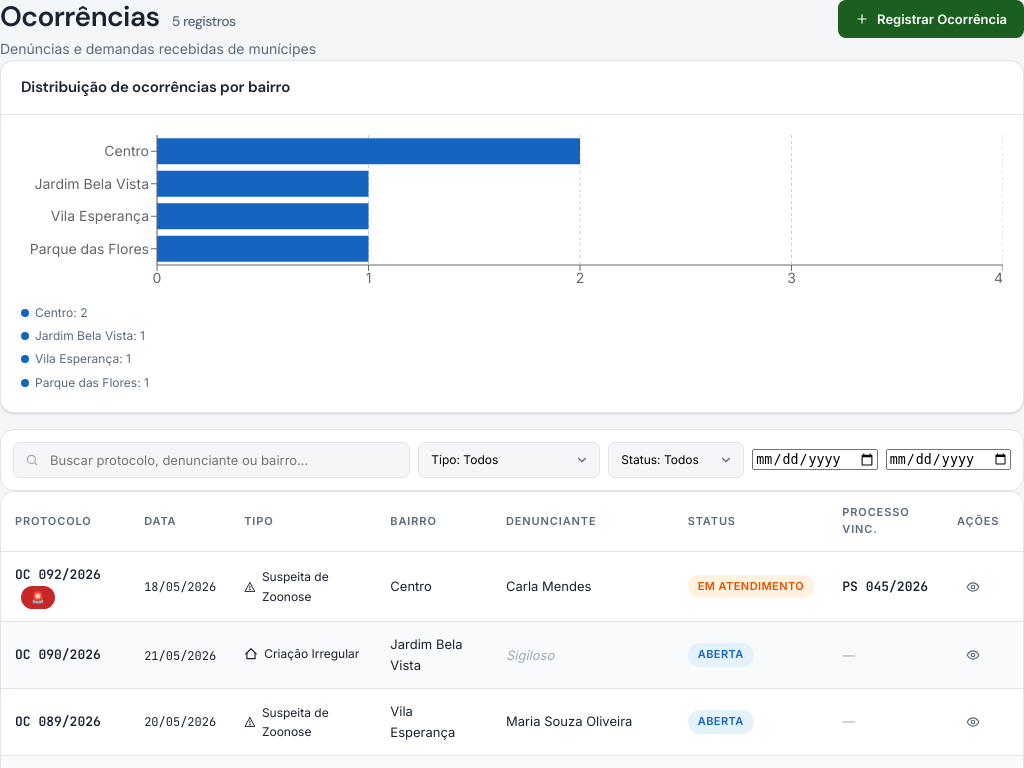
Test: Ocorrencias › filtra por tipo enviando o parâmetro `tipo`
This screenshot has width=1024, height=768.
Expected: the text "OC 089/2026" is shown, [15,713,101,730]
Step 1. Select "Animal Agressivo" in the dropdown named "Filtrar por tipo" → (509, 460), box [418,442,600,478]
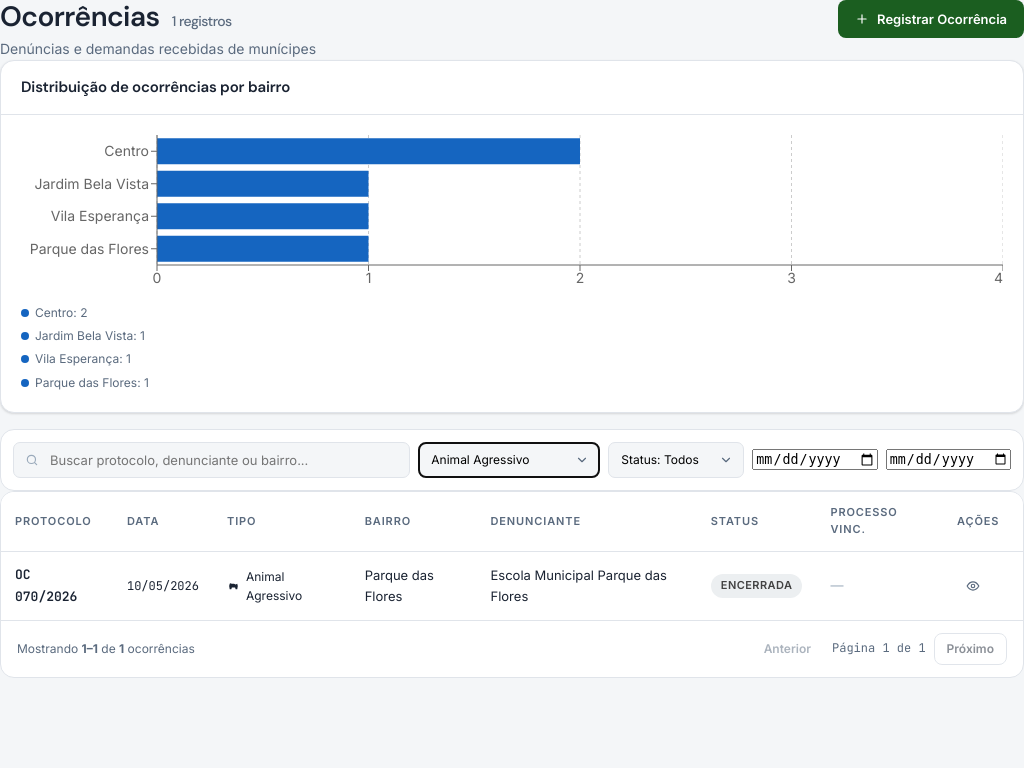
Expected: the text "OC 070/2026" is shown, [15,566,77,605]
Result: the text "OC 089/2026" is gone
